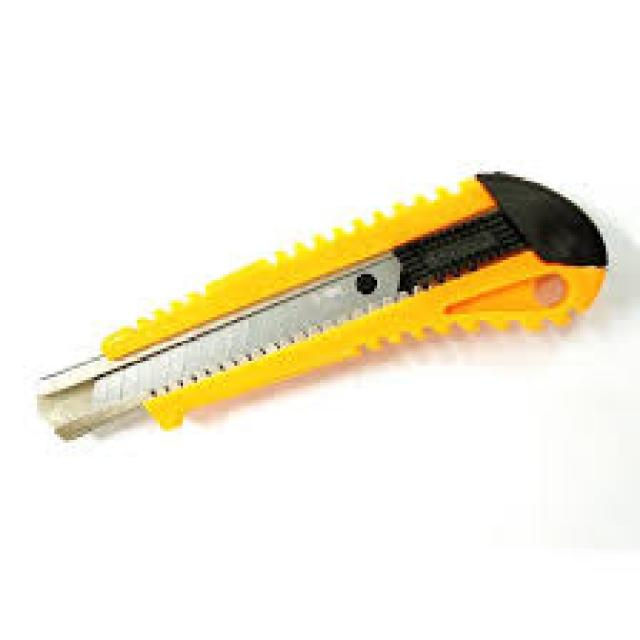Knife: (37, 171, 606, 437)
